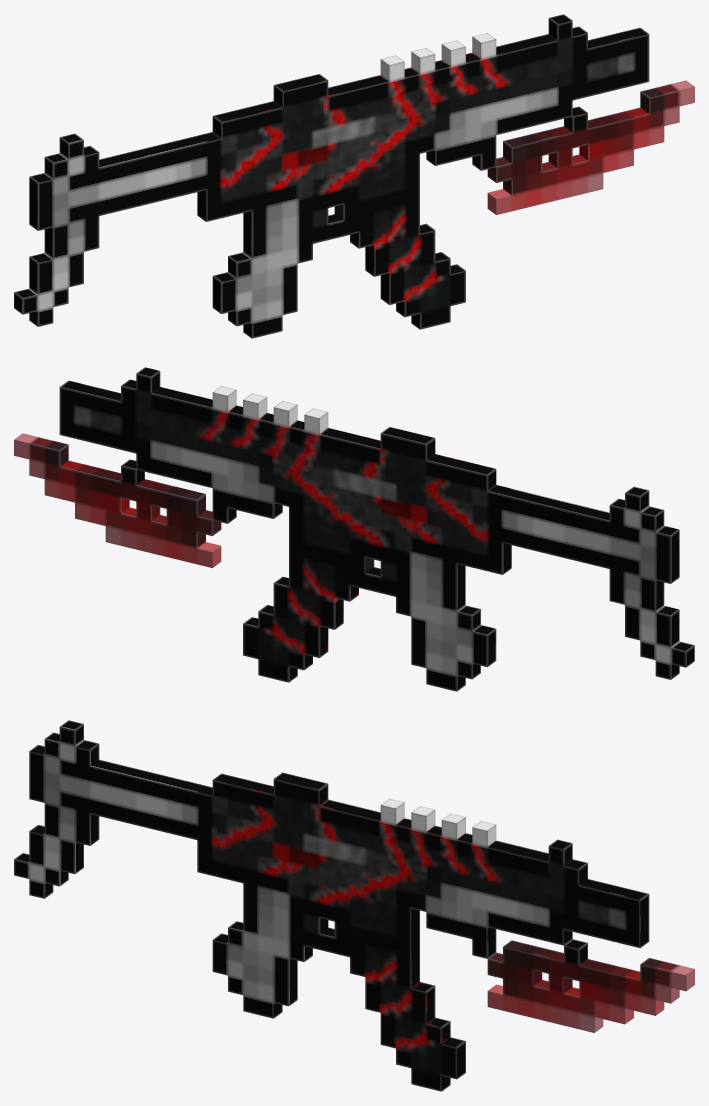
File: MP5_BONES.glb
The picture shows the model from 3 angles, top to bottom: view 1: azimuth 30°, elevation 25°; view 2: azimuth 150°, elevation 25°; view 3: azimuth 330°, elevation 25°; orthographic projection.
Visible parts, largest first — view 1: MP5_BONES; view 2: MP5_BONES; view 3: MP5_BONES.
Boxes of the visible parts, box(x1,y1,x2,y2) form: MP5_BONES: box(14, 14, 694, 338); MP5_BONES: box(14, 367, 694, 691); MP5_BONES: box(14, 720, 694, 1091).
Bounding box in the file's own units: 1.23 × 0.4743 × 0.0279.
1 material, 1 textured.
